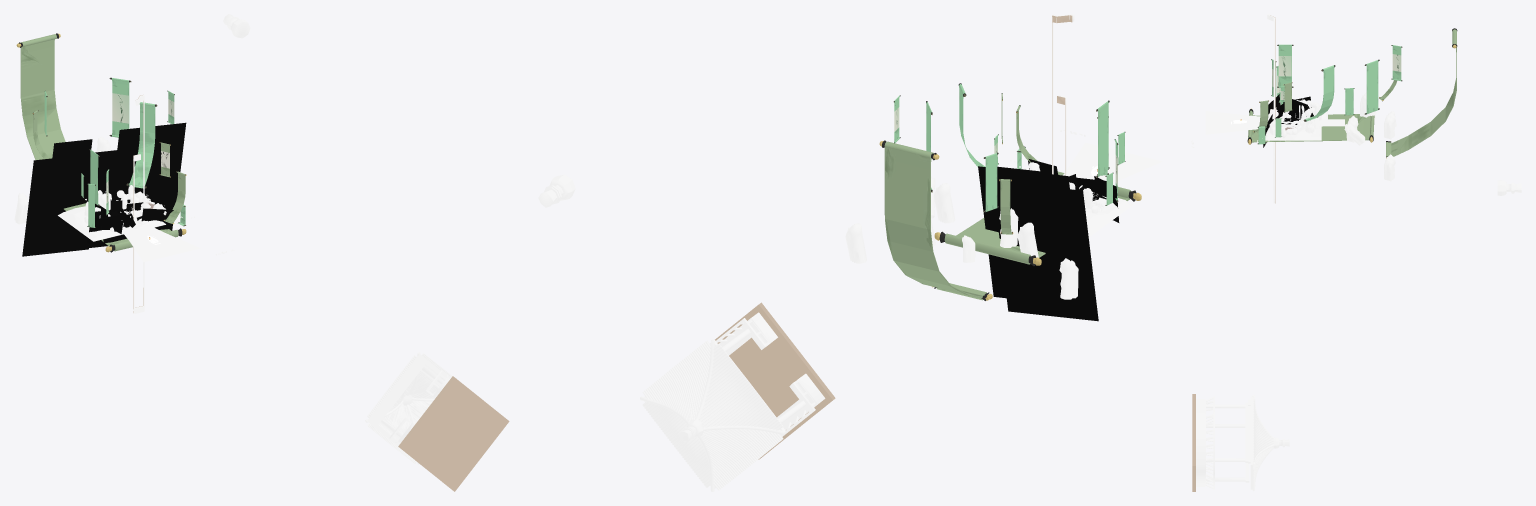
The model's file is chapter4.glb.
3 views of the same model, side by side, from view 1: azimuth 30°, elevation 25°; view 2: azimuth 150°, elevation 25°; view 3: azimuth 270°, elevation 25° (orthographic). The views are drawn at different scales.
Parts seen in each view (by area): view 1: BezierCurve.074, BezierCurve.042, BezierCurve.126, BezierCurve.041, BezierCurve.072, BezierCurve.127, BezierCurve.073, BezierCurve.043, BezierCurve.023, BezierCurve.091, BezierCurve.096, BezierCurve.040; view 2: BezierCurve.073, BezierCurve.126, BezierCurve.043, BezierCurve.074, BezierCurve.072, BezierCurve.040, BezierCurve.132, BezierCurve.023, BezierCurve.042, BezierCurve.091, BezierCurve.127, BezierCurve.133 (+2 smaller); view 3: BezierCurve.072, BezierCurve.127, BezierCurve.126, BezierCurve.132, BezierCurve.023, BezierCurve.073, BezierCurve.133, BezierCurve.011, BezierCurve.074, BezierCurve.096.
Part boxes in pixels (x1,y1,x2,y2): BezierCurve.074: [133, 95, 509, 491]; BezierCurve.042: [43, 149, 120, 252]; BezierCurve.126: [16, 33, 65, 160]; BezierCurve.041: [116, 122, 186, 209]; BezierCurve.072: [145, 14, 450, 464]; BezierCurve.127: [81, 77, 157, 197]; BezierCurve.073: [145, 198, 452, 463]; BezierCurve.043: [22, 158, 88, 256]; BezierCurve.023: [85, 199, 200, 261]; BezierCurve.091: [58, 206, 127, 241]; BezierCurve.096: [133, 95, 144, 313]; BezierCurve.040: [52, 139, 92, 158]; BezierCurve.073: [642, 340, 783, 490]; BezierCurve.126: [879, 140, 992, 300]; BezierCurve.043: [996, 181, 1098, 321]; BezierCurve.074: [715, 15, 1072, 459]; BezierCurve.072: [538, 174, 825, 491]; BezierCurve.040: [997, 166, 1061, 278]; BezierCurve.132: [934, 171, 1141, 266]; BezierCurve.023: [1063, 142, 1162, 182]; BezierCurve.042: [978, 166, 1069, 298]; BezierCurve.091: [1085, 196, 1133, 237]; BezierCurve.127: [926, 83, 1125, 192]; BezierCurve.133: [1096, 100, 1109, 177]; BezierCurve.072: [1196, 125, 1521, 490]; BezierCurve.127: [1303, 59, 1379, 121]; BezierCurve.126: [1386, 28, 1457, 158]; BezierCurve.132: [1247, 108, 1374, 144]; BezierCurve.023: [1205, 111, 1344, 134]; BezierCurve.073: [1253, 123, 1295, 491]; BezierCurve.133: [1277, 44, 1293, 87]; BezierCurve.011: [1265, 121, 1321, 140]; BezierCurve.074: [1192, 15, 1275, 491]; BezierCurve.096: [1267, 14, 1275, 203].
Bounding box in the file's own units: 168 × 173 × 142.
182 materials, 38 textured.
